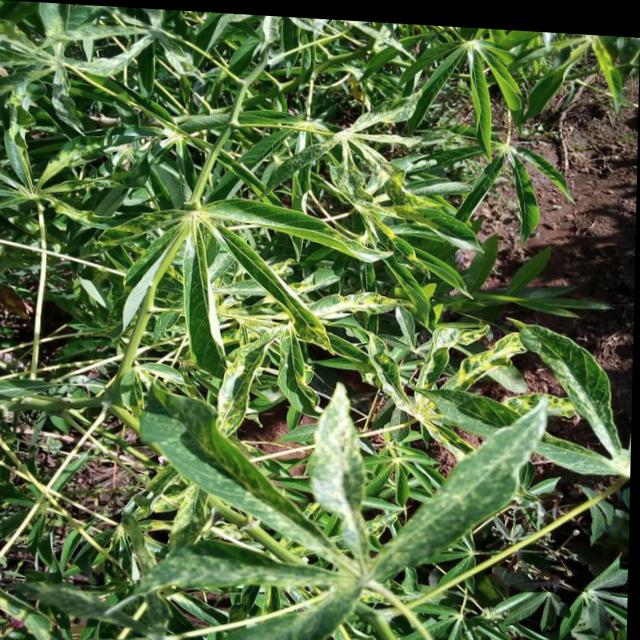Mosaico: (137, 385, 287, 536), (217, 313, 334, 419), (133, 207, 223, 327), (518, 24, 627, 104), (346, 175, 436, 261), (508, 137, 574, 226), (458, 328, 529, 391)
